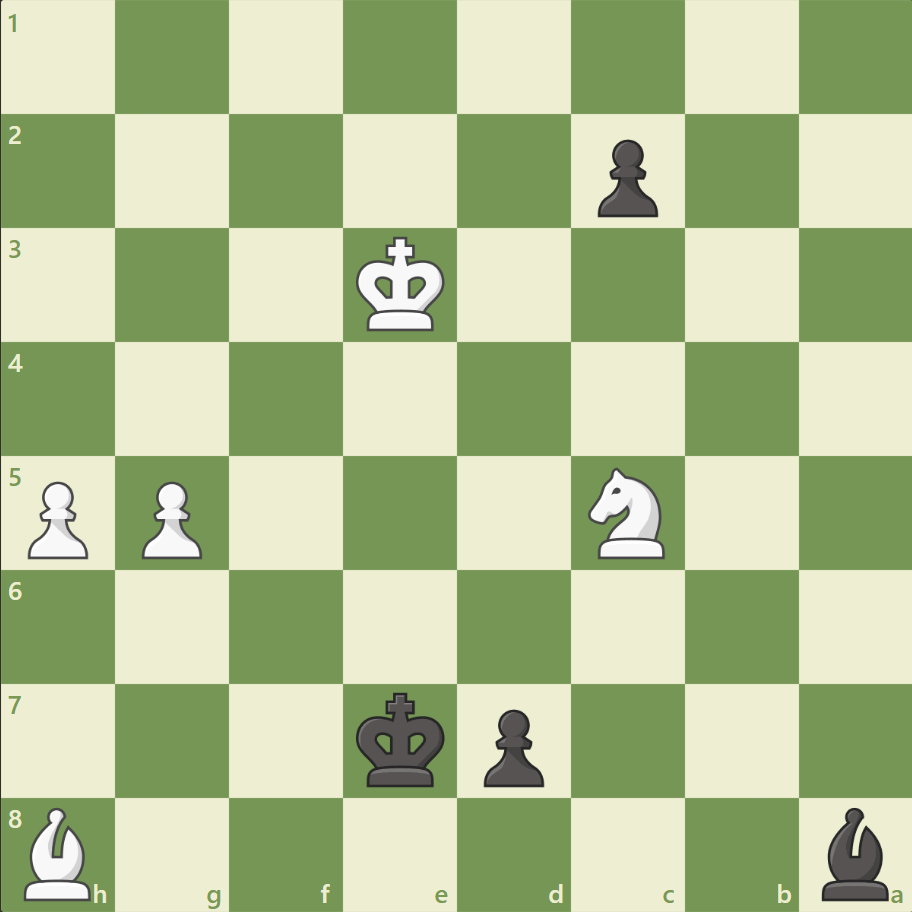B: (17, 801, 101, 904)
K: (351, 231, 451, 339)
N: (579, 461, 676, 564)
P: (133, 473, 208, 564), (20, 473, 95, 564)
b: (812, 801, 896, 904)
k: (351, 685, 451, 793)
p: (474, 700, 549, 791), (588, 132, 662, 223)
